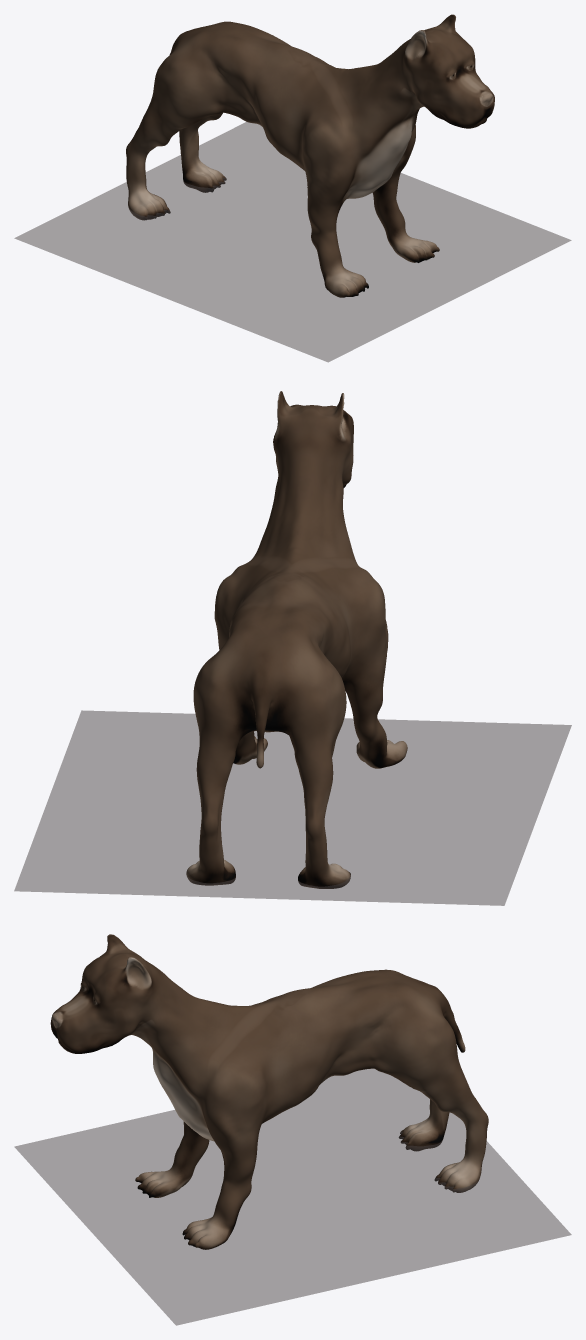
Rendered from pitbull.glb.
The picture shows the model from 3 angles, top to bottom: view 1: azimuth 30°, elevation 25°; view 2: azimuth 150°, elevation 25°; view 3: azimuth 270°, elevation 25°; orthographic projection. The views are drawn at different scales.
Visible parts, largest first — view 1: Plane_4, LP_2; view 2: Plane_4, LP_2; view 3: Plane_4, LP_2.
Boxes of the visible parts, left/top/right/bottom form: Plane_4: left=14, top=122, right=571, bottom=362; LP_2: left=126, top=14, right=494, bottom=297; Plane_4: left=14, top=710, right=571, bottom=905; LP_2: left=186, top=391, right=407, bottom=888; Plane_4: left=14, top=1068, right=571, bottom=1325; LP_2: left=50, top=934, right=488, bottom=1249.
Bounding box in the file's own units: 1.56 × 0.9165 × 1.56.
Materials: 2 (1 with a texture image).
